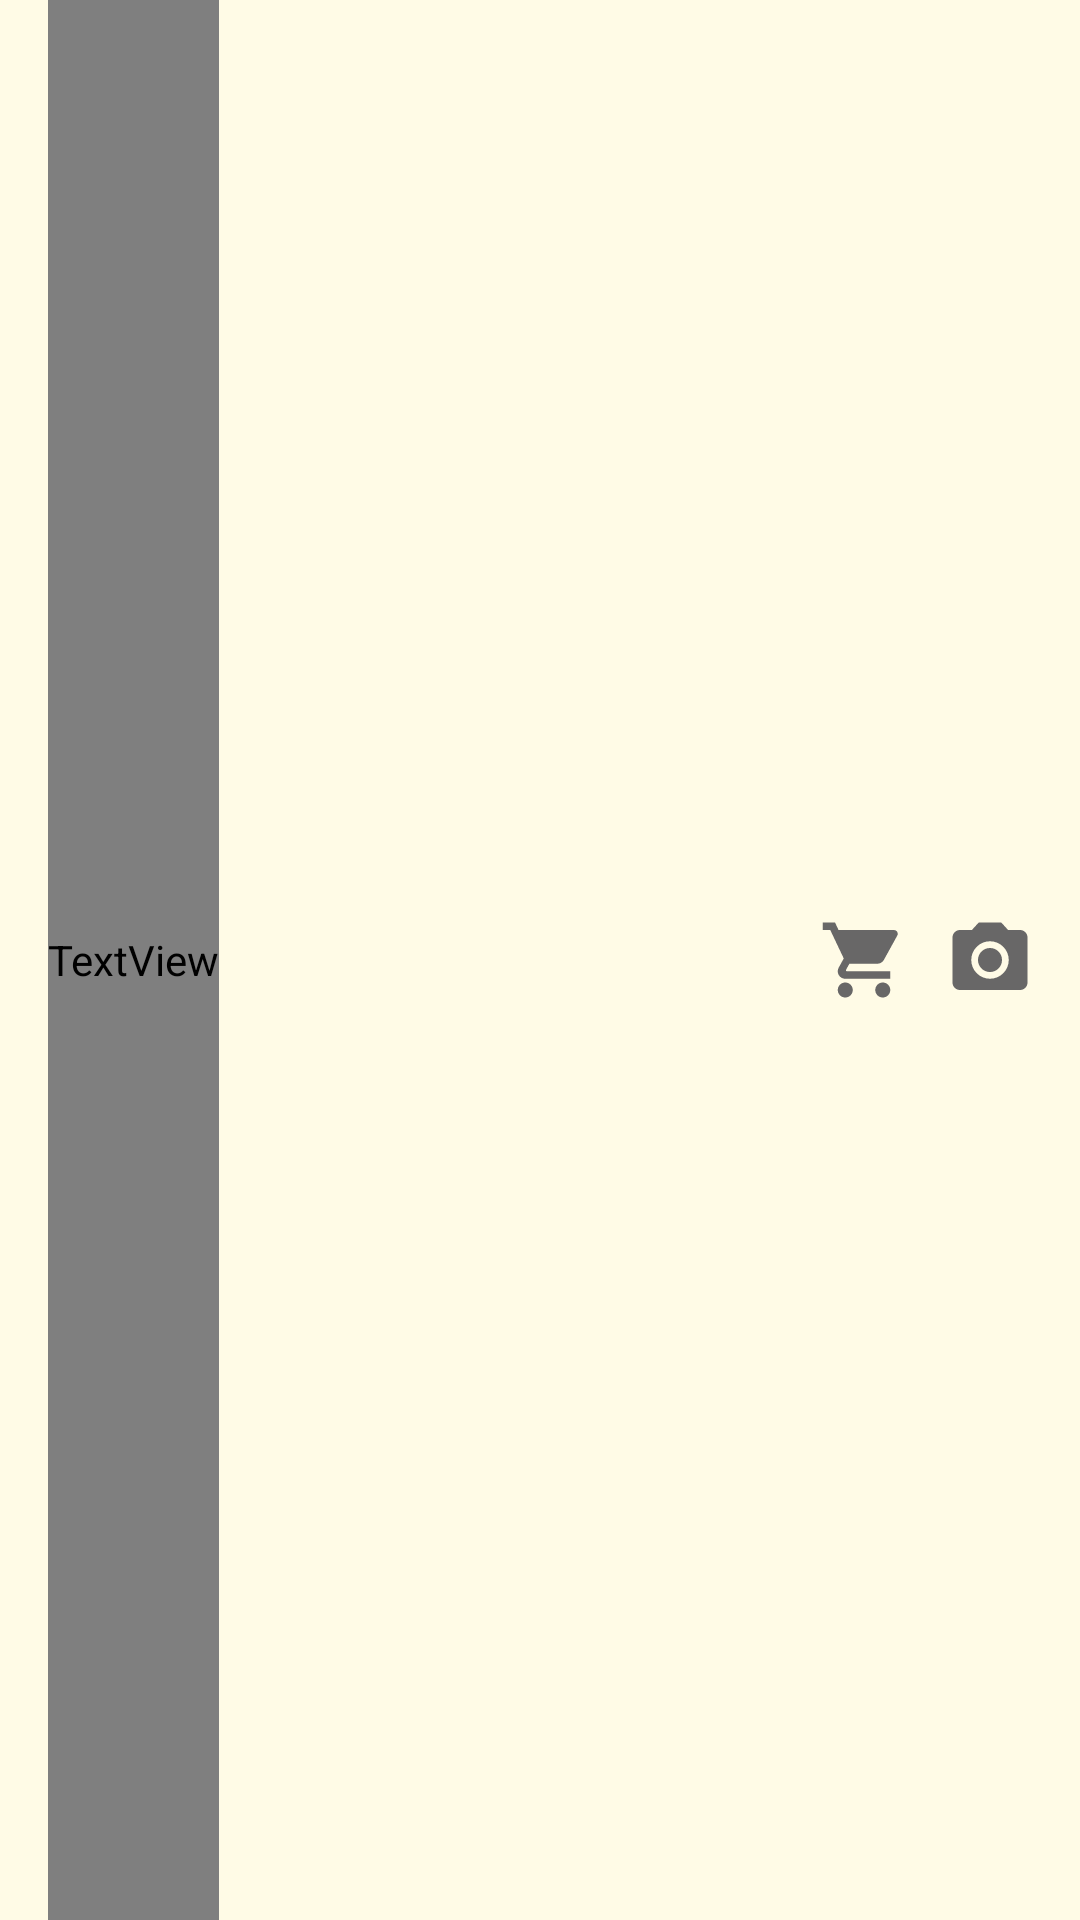

Where icons sit on this 1080px x 1920px app screen, as bbox(x1, y1, x2, y2):
camera: bbox(952, 922, 1028, 990)
shopping: bbox(822, 922, 898, 998)
